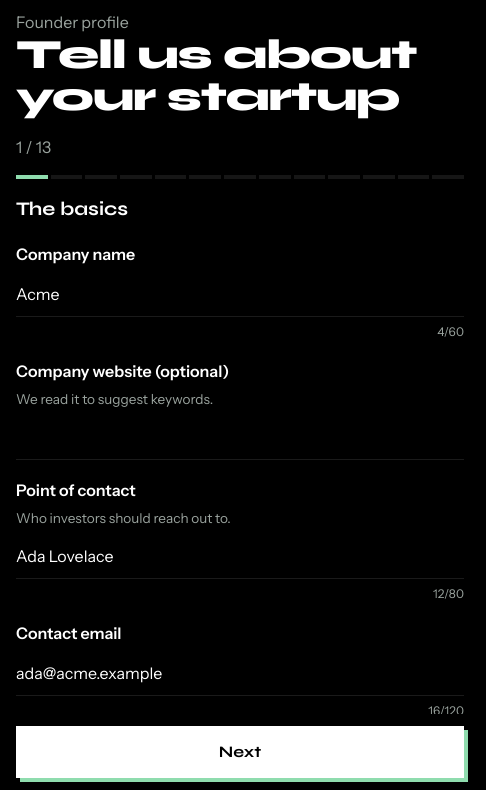
Screening › shows the values step as 13 checkbox options
Click the button "Next" at x=240, y=752, box [16,726,464,778]
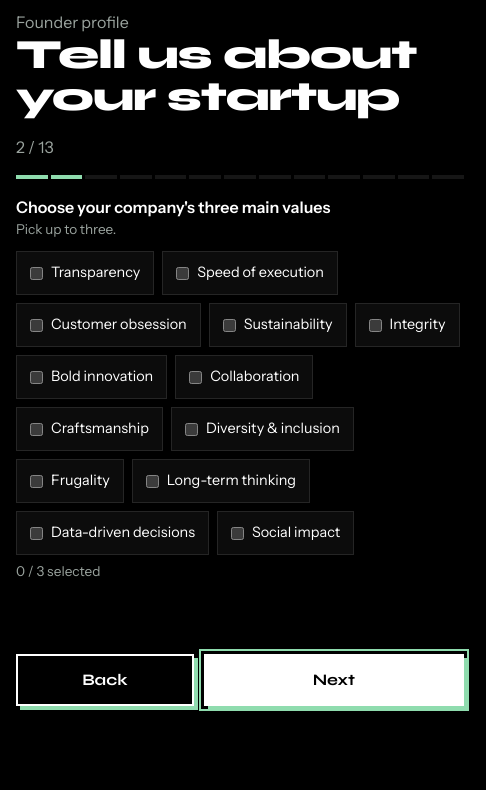
Expected: the number of checkboxes is 13
